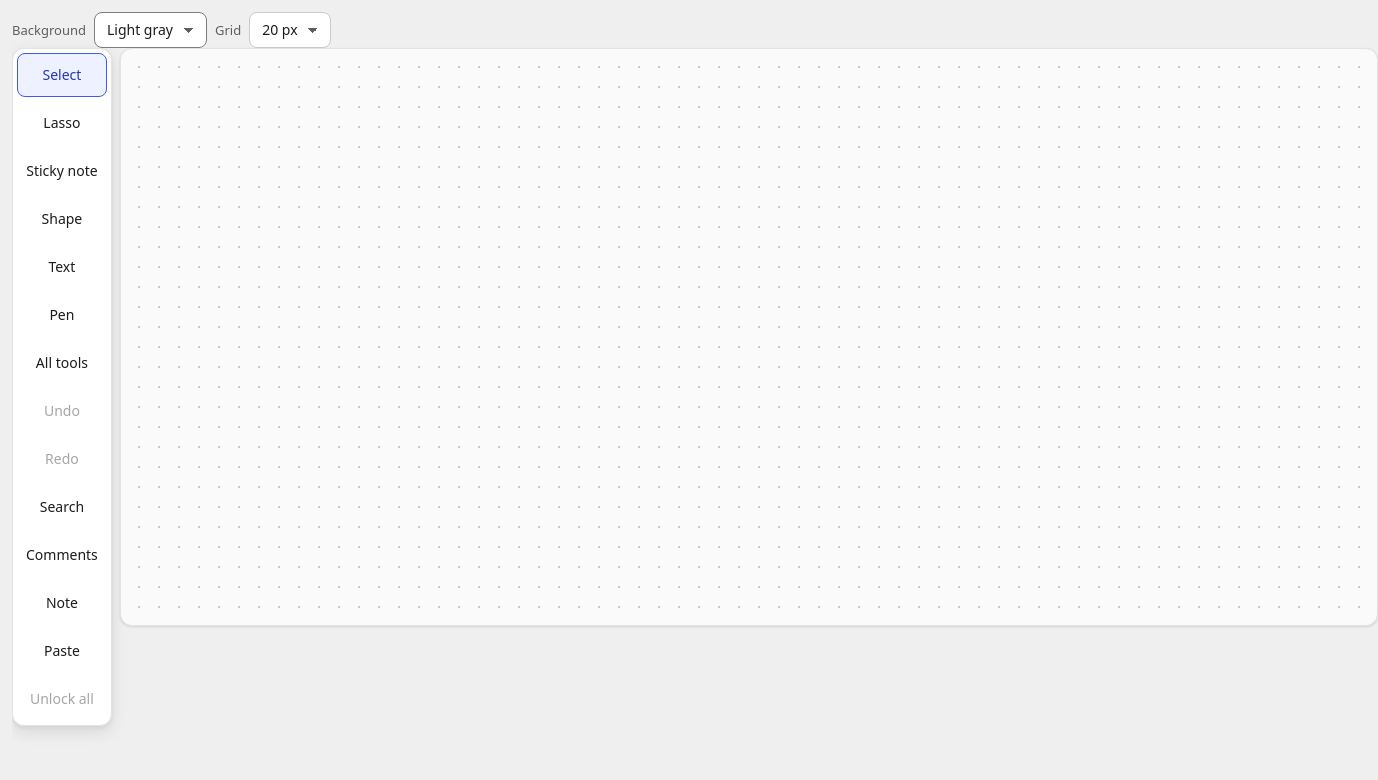
Scenario: CVS-23: контекстное меню › Escape закрывает меню
This screenshot has width=1378, height=780.
Right-click the element with test id "board-canvas".
right_click(749, 337)  # box [120, 48, 1377, 626]
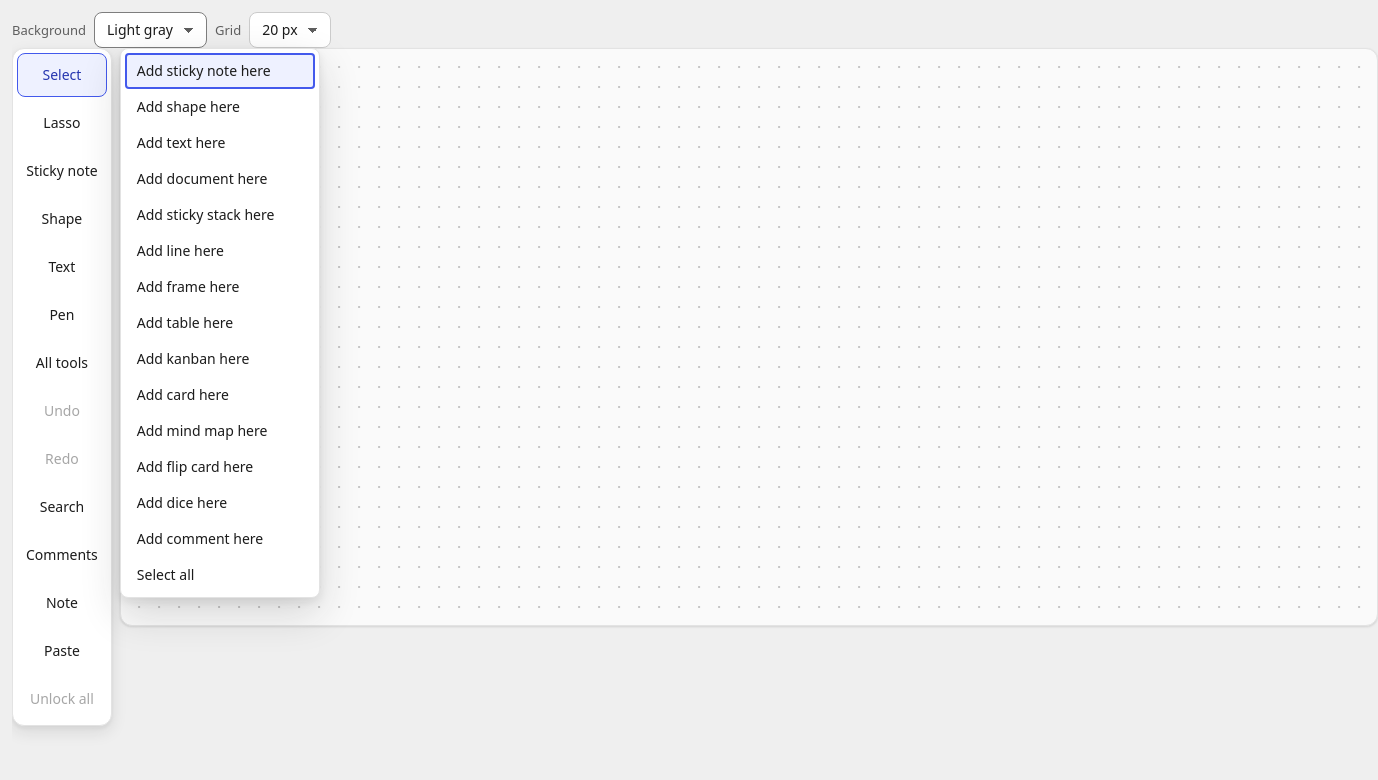
Press Escape
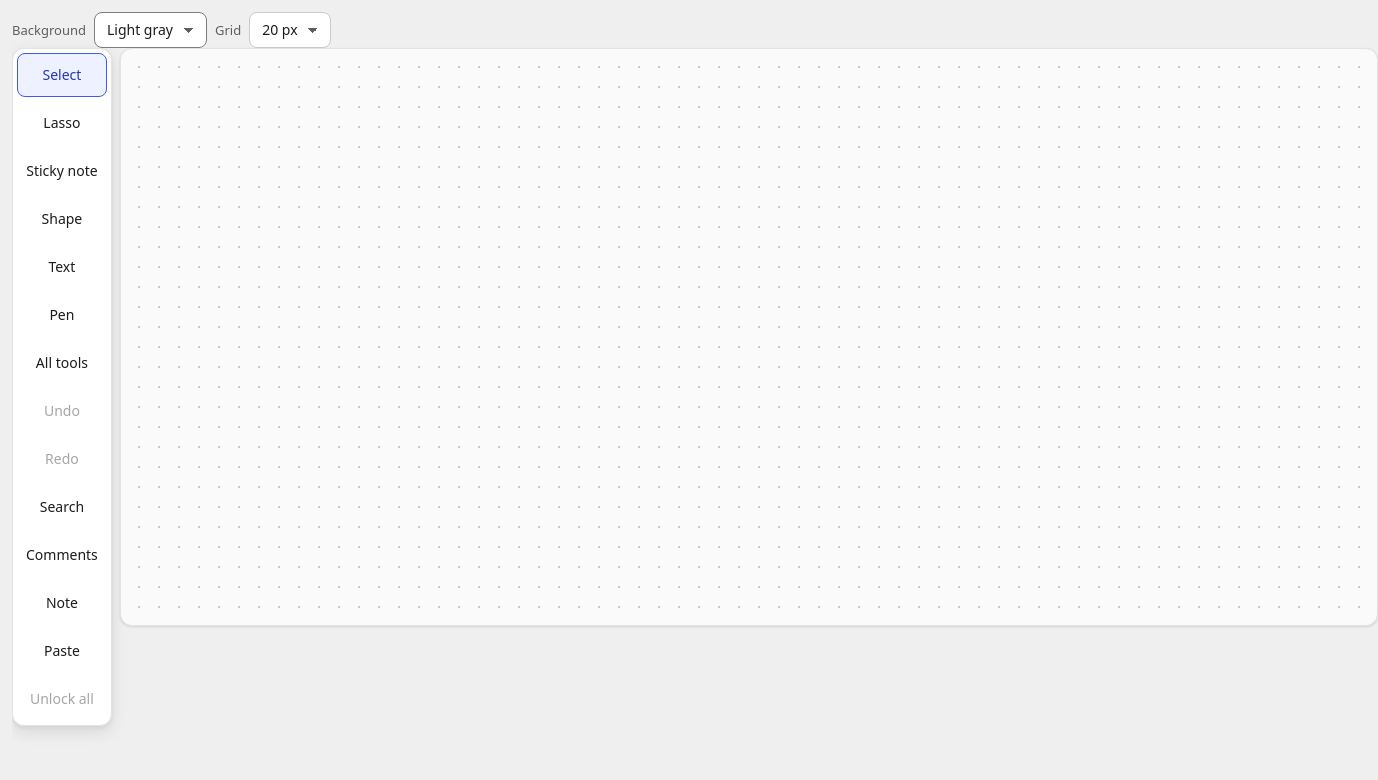
Check: the menu is gone
